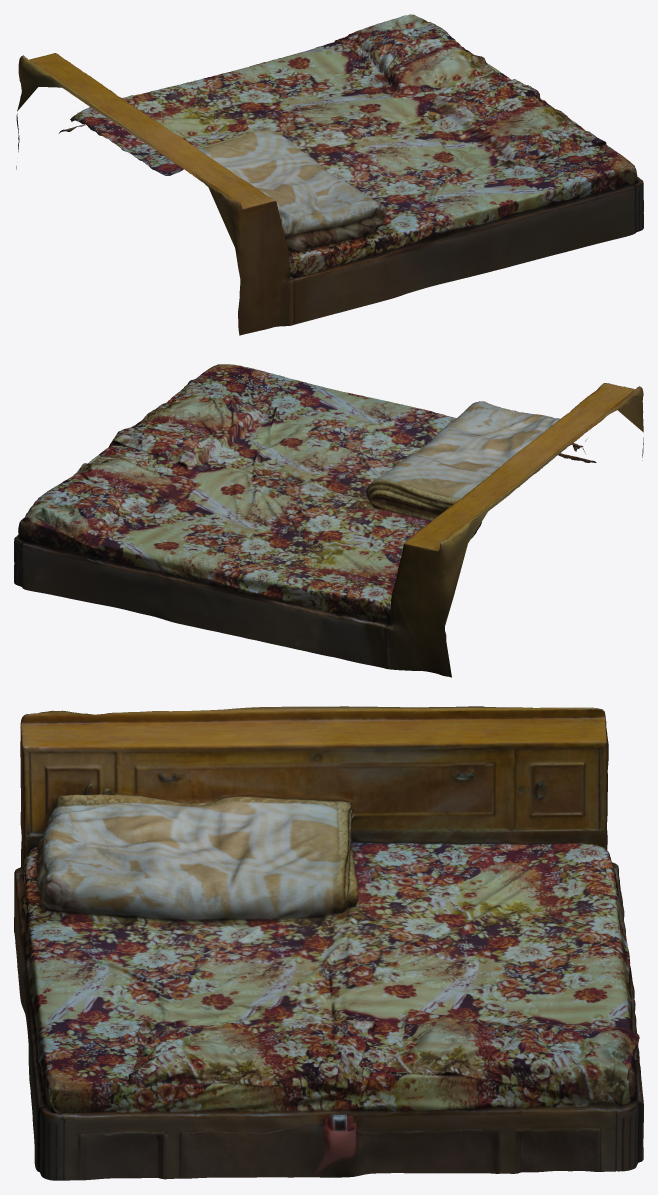
File: bed_scan_aligned.glb
The picture shows the model from 3 angles, top to bottom: view 1: azimuth 30°, elevation 25°; view 2: azimuth 150°, elevation 25°; view 3: azimuth 270°, elevation 25°; orthographic projection. The views are drawn at different scales.
Parts seen in each view (by area): view 1: 3DModel.obj; view 2: 3DModel.obj; view 3: 3DModel.obj.
Boxes of the visible parts, box(x1,y1,x2,y2) form: 3DModel.obj: box(16, 14, 643, 335); 3DModel.obj: box(14, 364, 643, 677); 3DModel.obj: box(14, 706, 643, 1180).
Bounding box in the file's own units: 1.78 × 0.5178 × 1.6.
Materials: 1 (1 with a texture image).
